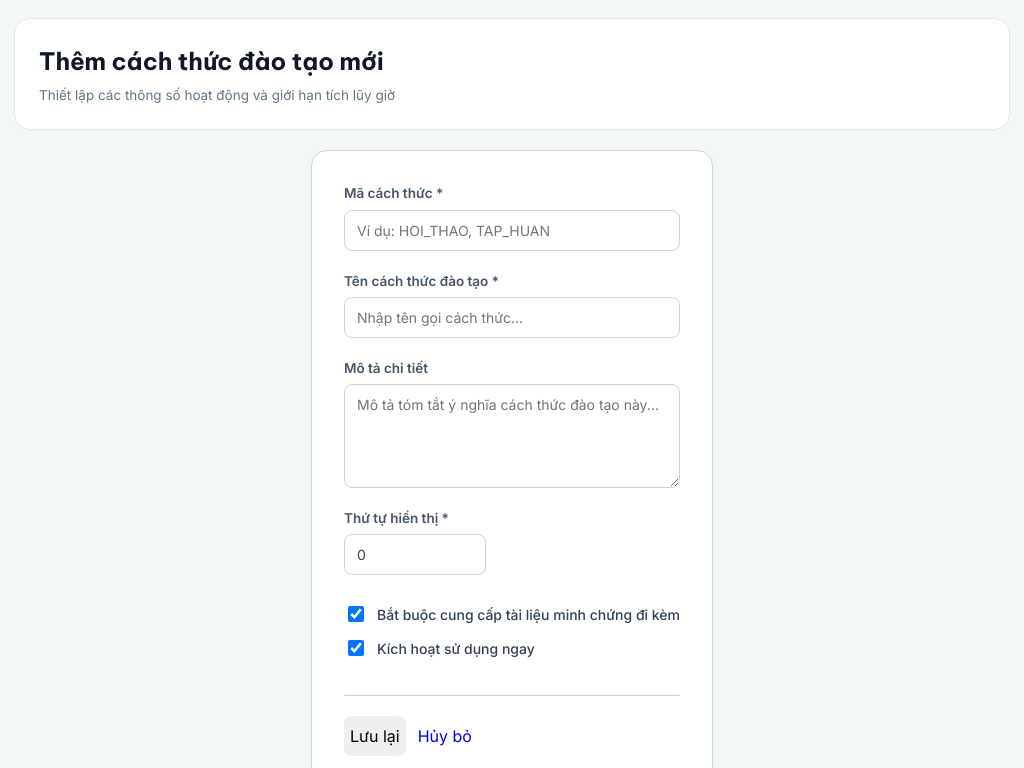
Test: ActivityTypeFormPage - tạo mới › báo lỗi kết nối khi máy chủ không phản hồi
The image size is (1024, 768).
Type "ABC" into the field with placeholder "Ví dụ: HOI_THAO, TAP_HUAN".
click(512, 230); type("ABC")  # box [344, 210, 680, 250]
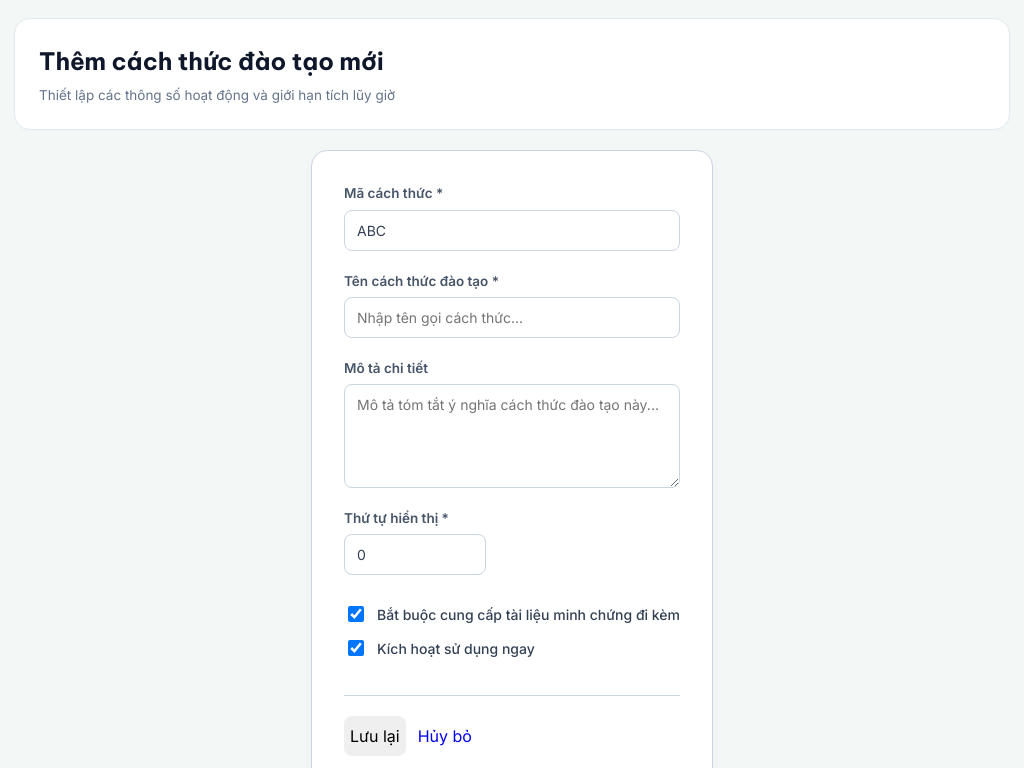
Type "Mất mạng" into the field with placeholder "Nhập tên gọi cách thức...".
click(512, 317); type("Mất mạng")  # box [344, 297, 680, 338]
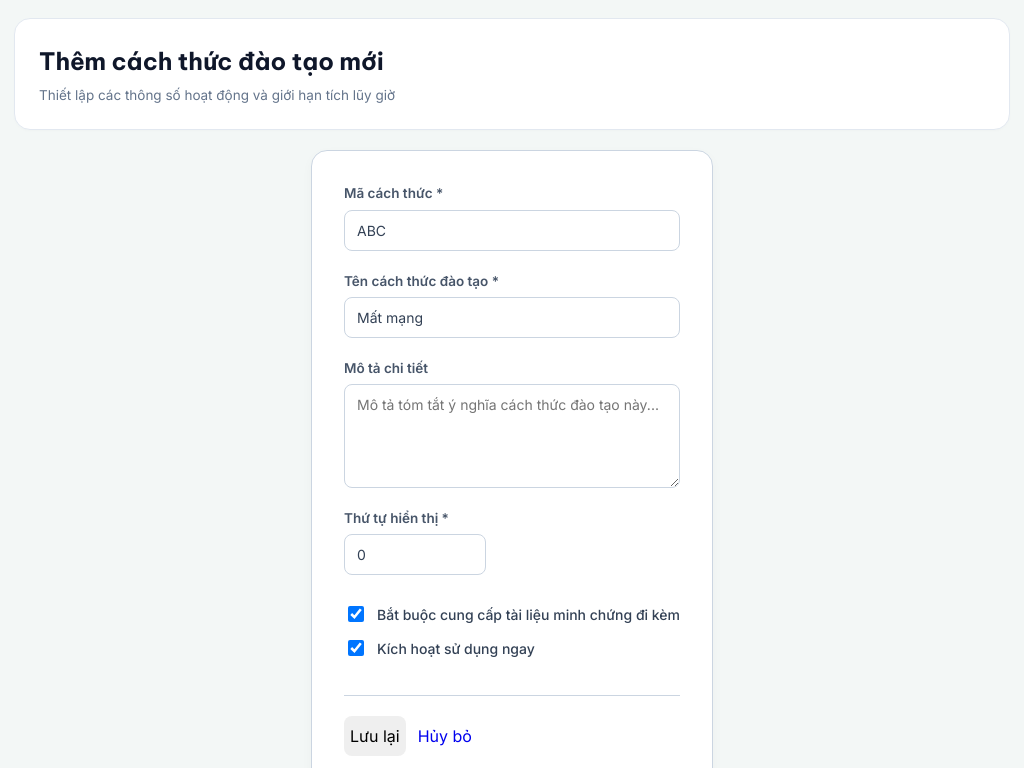
Submit the form with placeholder "Ví dụ: HOI_THAO, TAP_HUAN", box [344, 183, 680, 756]
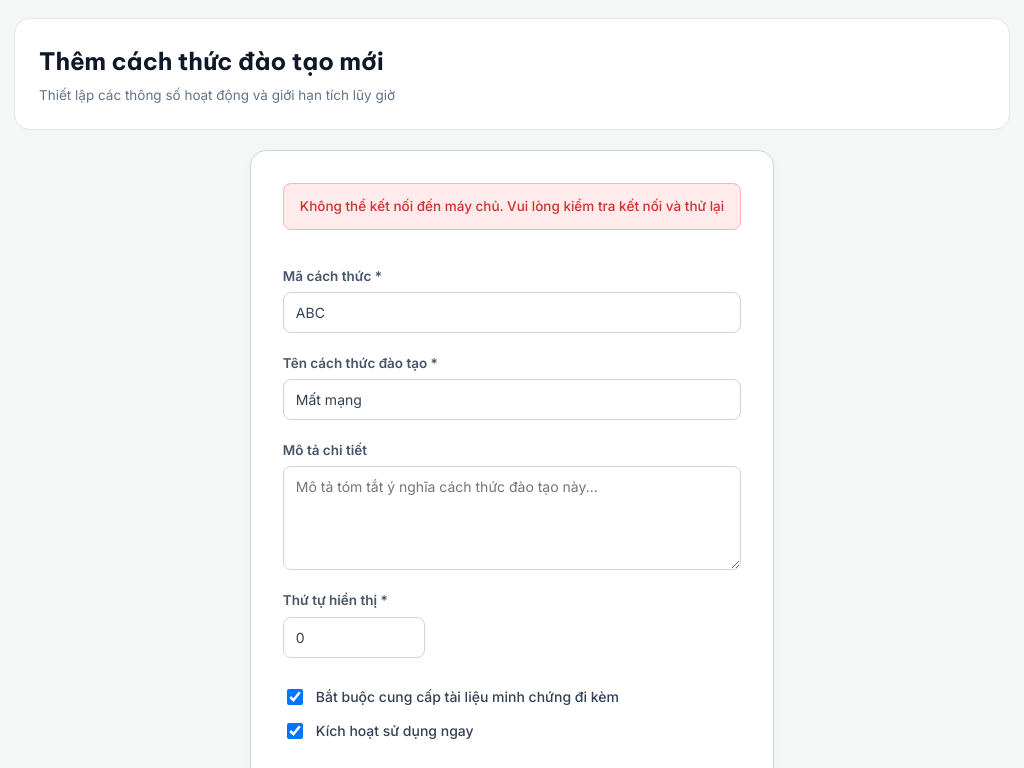
Now the text "Không thể kết nối đến máy chủ" is shown, box [300, 198, 724, 214]
